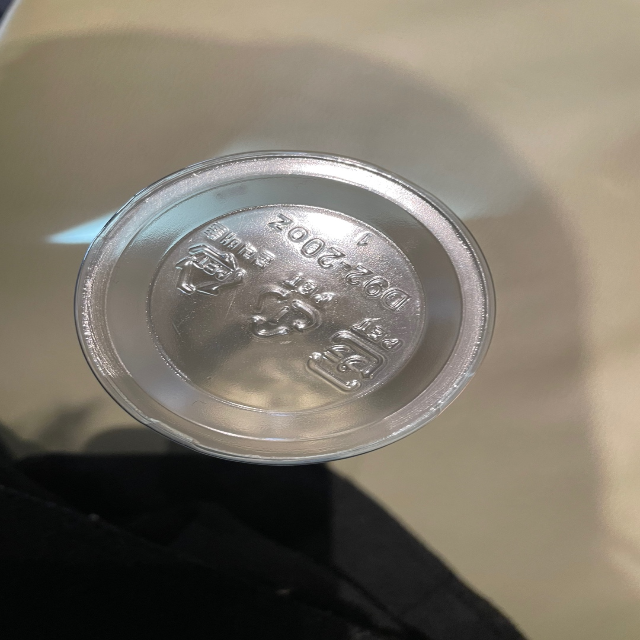pet: (167, 219, 272, 300), (304, 316, 406, 393), (242, 272, 338, 347)
